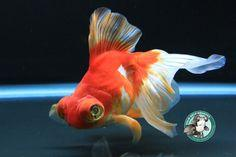goldfish: (50, 46, 184, 131)
